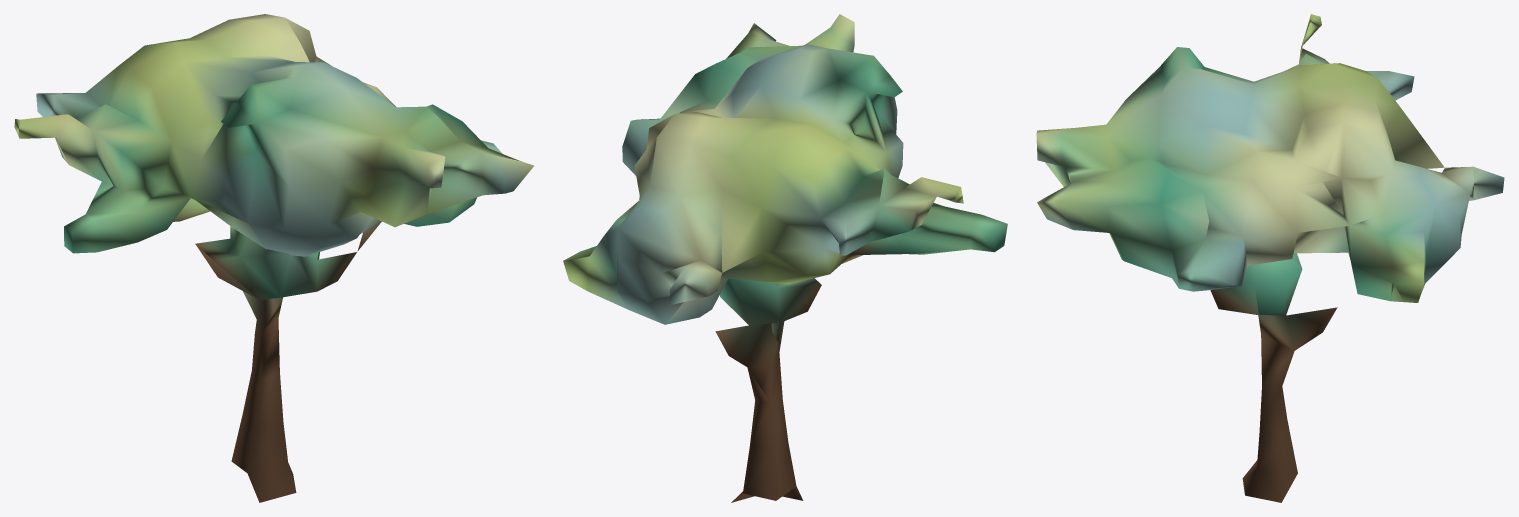
Rendered from canopy-tree-lod3.obj.
The picture shows the model from 3 angles, left to right: view 1: azimuth 30°, elevation 25°; view 2: azimuth 150°, elevation 25°; view 3: azimuth 270°, elevation 25°; orthographic projection. The views are drawn at different scales.
Visible parts, largest first — view 1: simplified; view 2: simplified; view 3: simplified.
Part boxes in pixels (x1,y1,x2,y2): simplified: [14, 14, 533, 502]; simplified: [563, 14, 1007, 502]; simplified: [1036, 14, 1504, 502].
Size of the model in its own units: 436 by 454 by 465.
